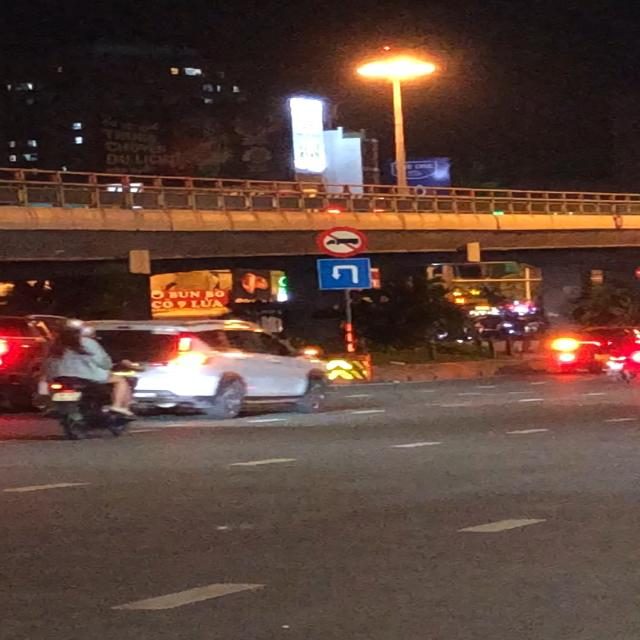Bien bao cam xe so-mi ro-mooc: (313, 226, 371, 259)
